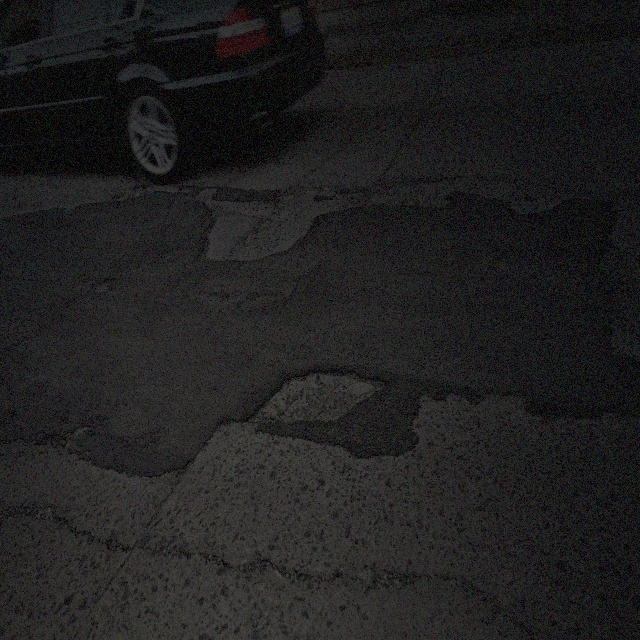pothole: (202, 188, 324, 270), (249, 363, 388, 424), (45, 419, 101, 445), (237, 291, 280, 310), (92, 275, 117, 295)
